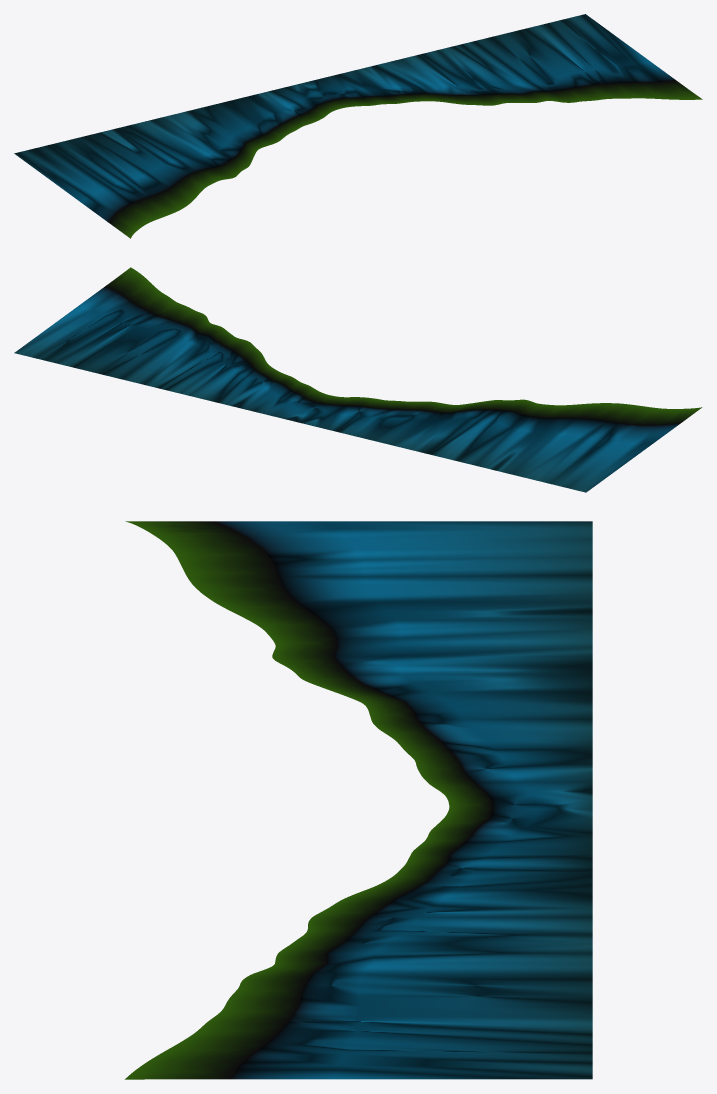
The model's file is Water.FBX.
3 views of the same model, one above another, from view 1: azimuth 30°, elevation 25°; view 2: azimuth 150°, elevation 25°; view 3: azimuth 270°, elevation 25° (orthographic). The views are drawn at different scales.
Parts seen in each view (by area): view 1: WaterSlash; view 2: WaterSlash; view 3: WaterSlash.
Boxes of the visible parts, x1,y1,x2,y2 form: WaterSlash: (14, 14, 702, 238); WaterSlash: (14, 267, 702, 492); WaterSlash: (125, 521, 592, 1079).
Bounding box in the file's own units: 379563 × 0.1195 × 134494.
